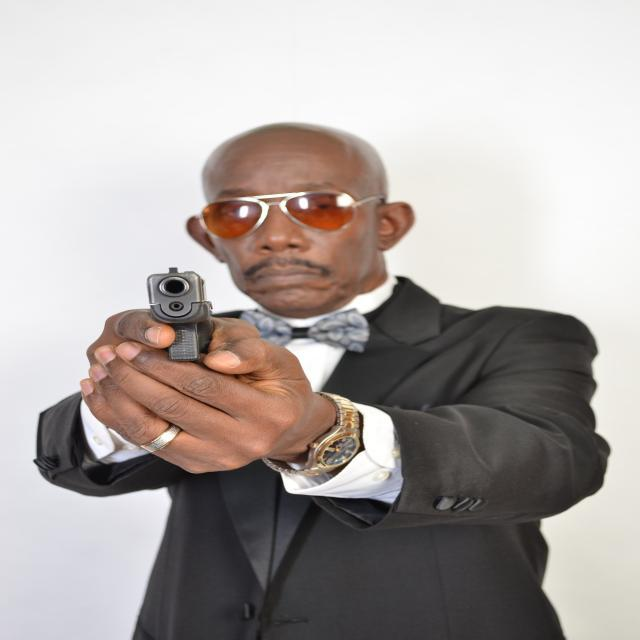pistol: (126, 254, 240, 388)
